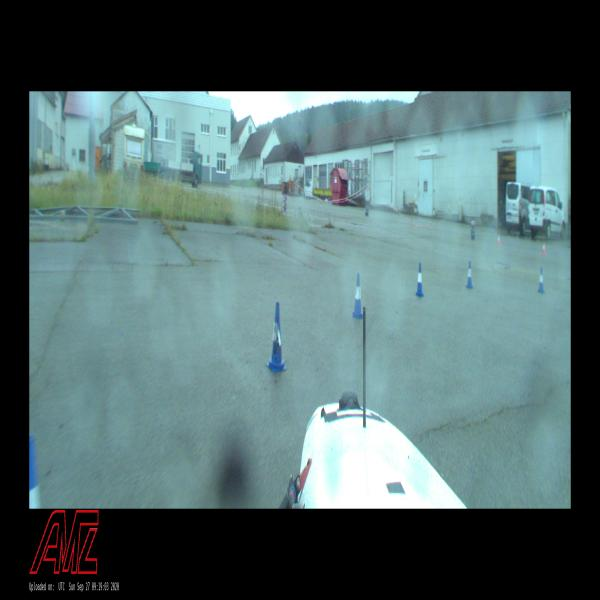blue_cone: (267, 303, 287, 371), (29, 436, 42, 506), (352, 274, 363, 318), (415, 263, 424, 297), (538, 269, 544, 292), (466, 261, 471, 287)
orange_cone: (541, 241, 545, 255), (497, 234, 500, 246)
